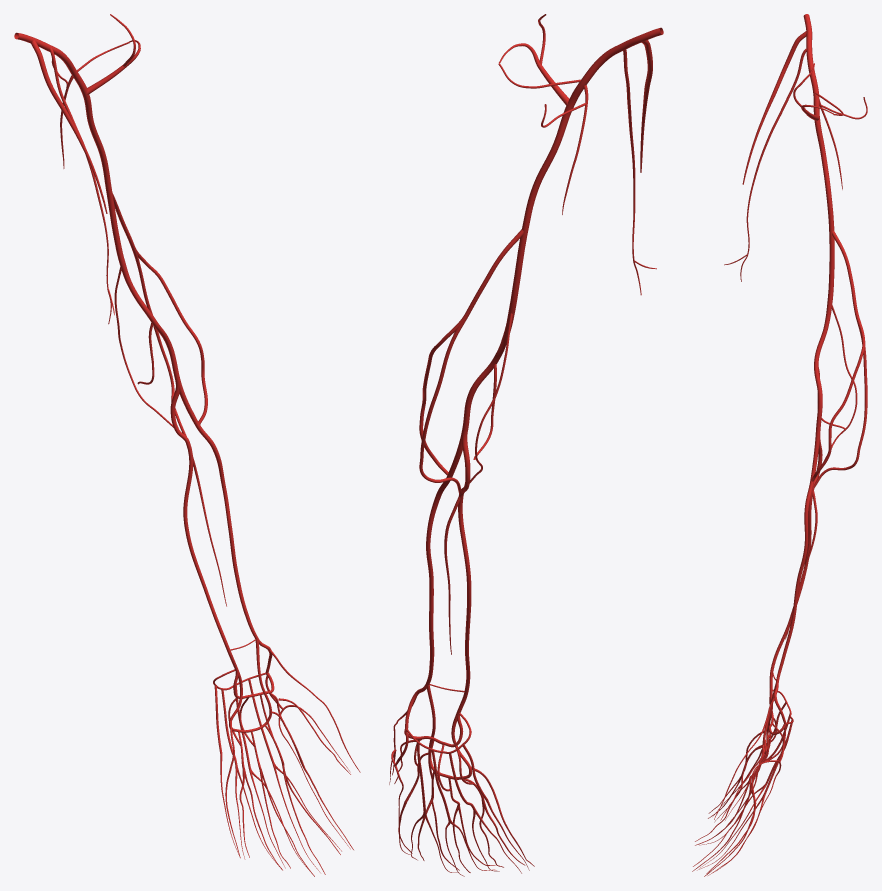
The model's file is circulatorio-axillary-artery-l.glb.
3 views of the same model, side by side, from view 1: azimuth 30°, elevation 25°; view 2: azimuth 150°, elevation 25°; view 3: azimuth 270°, elevation 25° (orthographic). The views are drawn at different scales.
Parts seen in each view (by area): view 1: Proper palmar digital arteries.l, Brachial artery.l, Dorsal digital arteries of hand.l, Radial artery.l, Ulnar artery.l, Dorsal metacarpal arteries.l, Radial collateral artery.l, Lateral thoracic artery.l, Pectoral branches of thoraco-acromial artery.l; view 2: Brachial artery.l, Radial artery.l, Proper palmar digital arteries.l, Ulnar artery.l, Dorsal digital arteries of hand.l, Dorsal metacarpal arteries.l, Lateral thoracic artery.l, Axillary artery.l, Radial collateral artery.l, Anterior circumflex humeral artery.l, Superficial palmar arch.l, Pectoral branches of thoraco-acromial artery.l; view 3: Brachial artery.l, Proper palmar digital arteries.l, Radial artery.l, Dorsal digital arteries of hand.l, Ulnar artery.l, Lateral thoracic artery.l, Radial collateral artery.l, Pectoral branches of thoraco-acromial artery.l, Axillary artery.l, Dorsal metacarpal arteries.l, Recurrent interosseous artery.l.
Boxes of the visible parts, <box> form: Proper palmar digital arteries.l: <box>225,650,360,876</box>; Brachial artery.l: <box>73,73,179,380</box>; Dorsal digital arteries of hand.l: <box>220,705,350,872</box>; Radial artery.l: <box>176,379,272,673</box>; Ulnar artery.l: <box>170,380,237,670</box>; Dorsal metacarpal arteries.l: <box>214,673,283,766</box>; Radial collateral artery.l: <box>134,245,207,424</box>; Lateral thoracic artery.l: <box>49,47,114,324</box>; Pectoral branches of thoraco-acromial artery.l: <box>37,53,107,213</box>; Brachial artery.l: <box>462,81,584,430</box>; Radial artery.l: <box>404,430,463,729</box>; Proper palmar digital arteries.l: <box>392,697,534,872</box>; Ulnar artery.l: <box>457,430,471,713</box>; Dorsal digital arteries of hand.l: <box>389,749,529,876</box>; Dorsal metacarpal arteries.l: <box>395,729,487,819</box>; Lateral thoracic artery.l: <box>623,49,656,295</box>; Axillary artery.l: <box>580,27,663,85</box>; Radial collateral artery.l: <box>419,313,466,475</box>; Anterior circumflex humeral artery.l: <box>499,14,569,105</box>; Superficial palmar arch.l: <box>427,685,471,779</box>; Pectoral branches of thoraco-acromial artery.l: <box>640,43,652,172</box>; Brachial artery.l: <box>813,93,834,431</box>; Proper palmar digital arteries.l: <box>692,698,774,876</box>; Radial artery.l: <box>773,431,820,723</box>; Dorsal digital arteries of hand.l: <box>697,748,781,875</box>; Ulnar artery.l: <box>769,435,822,690</box>; Lateral thoracic artery.l: <box>724,48,806,281</box>; Radial collateral artery.l: <box>811,311,865,481</box>; Pectoral branches of thoraco-acromial artery.l: <box>742,39,799,184</box>; Axillary artery.l: <box>803,14,818,93</box>; Dorsal metacarpal arteries.l: <box>765,702,792,790</box>; Recurrent interosseous artery.l: <box>813,404,867,488</box>.
Size of the model in its own units: 0.2534 by 0.7071 by 0.1492.
